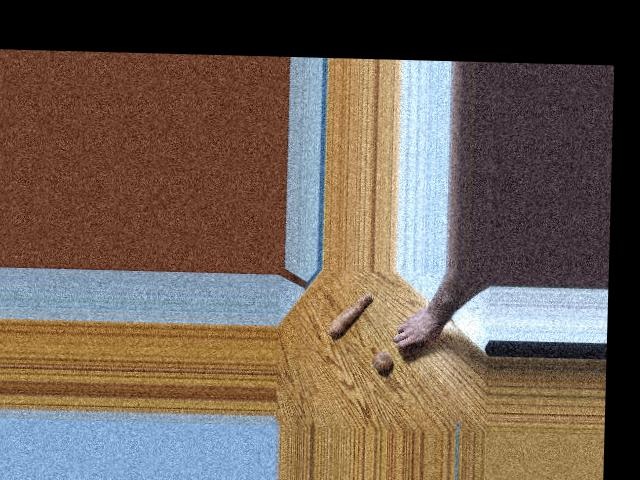onion: (400, 333, 426, 355)
